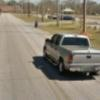cars: (42, 33, 100, 78)
